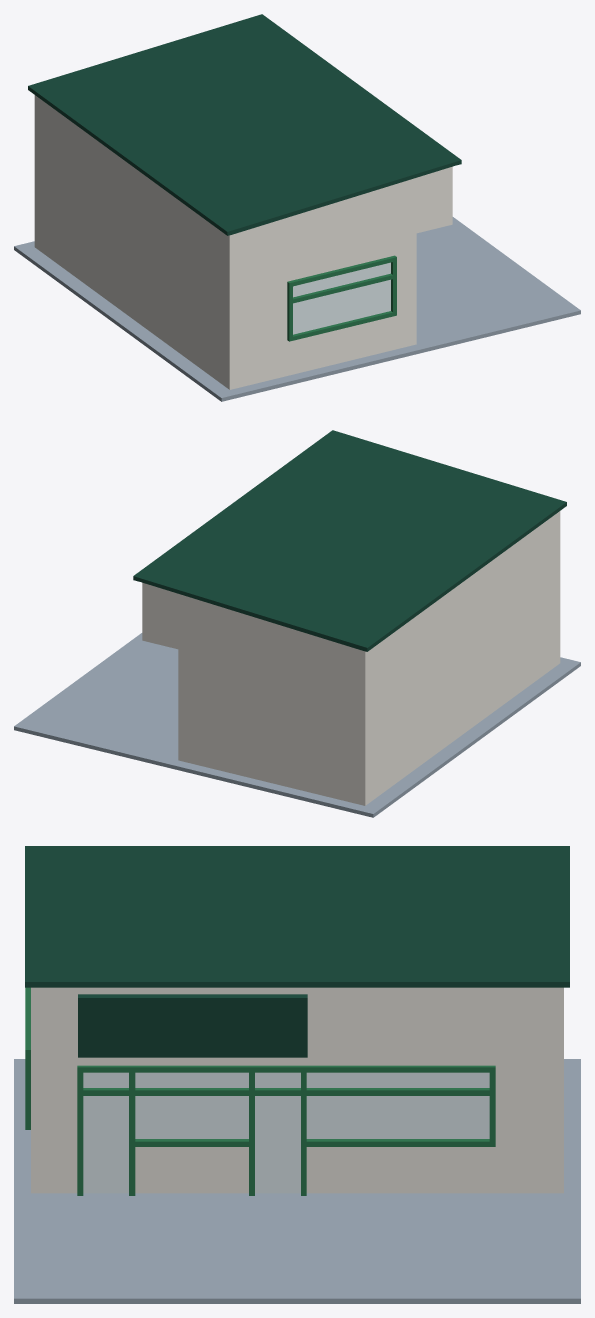
File: warteg.glb
3 renders of one model, top to bottom at view 1: azimuth 30°, elevation 25°; view 2: azimuth 150°, elevation 25°; view 3: azimuth 270°, elevation 25°, orthographic. The views are drawn at different scales.
Parts seen in each view (by area): view 1: Warteg; view 2: Warteg; view 3: Warteg.
Part boxes in pixels (x1,y1,x2,y2): Warteg: [14, 14, 580, 401]; Warteg: [14, 430, 580, 817]; Warteg: [14, 846, 580, 1303].
Size of the model in its own units: 10 by 4.77 by 10.
